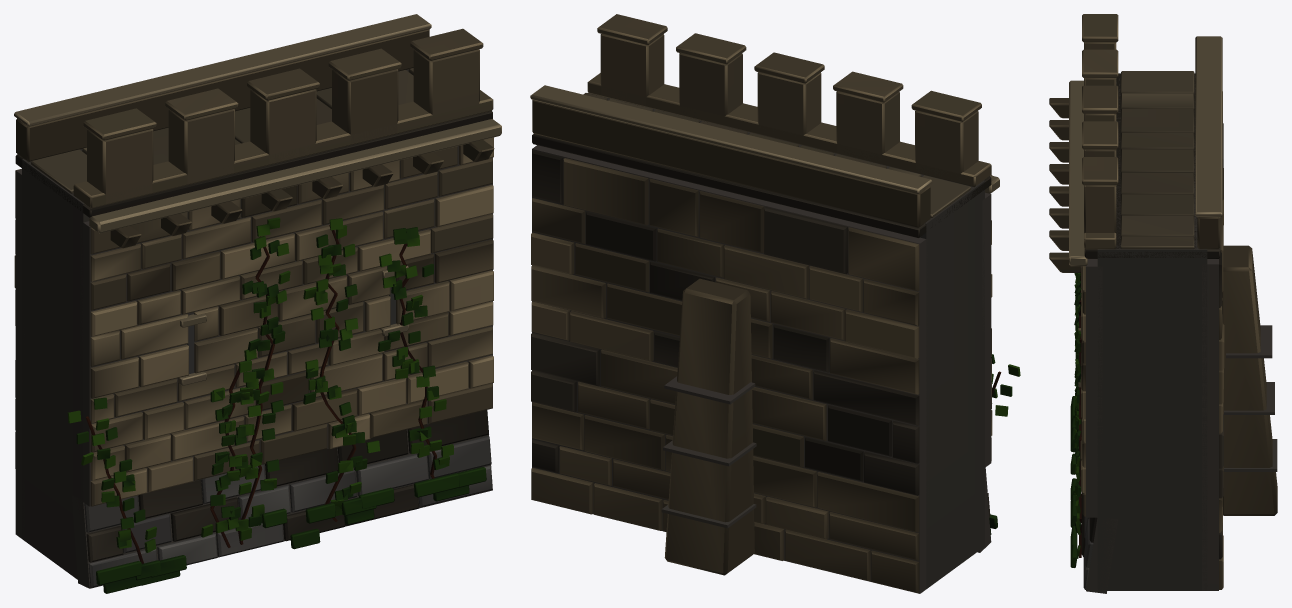
Rendered from Muralha4Hera.fbx.
3 views of the same model, side by side, from view 1: azimuth 30°, elevation 25°; view 2: azimuth 150°, elevation 25°; view 3: azimuth 270°, elevation 25° (orthographic). The views are drawn at different scales.
Visible parts, largest first — view 1: Muralha4Hera; view 2: Muralha4Hera; view 3: Muralha4Hera.
Part boxes in pixels (x1=…): Muralha4Hera: x1=14, y1=14, x2=501, y2=593; Muralha4Hera: x1=530, y1=14, x2=1020, y2=593; Muralha4Hera: x1=1049, y1=14, x2=1277, y2=593.
Bounding box in the file's own units: 8.51 × 8.63 × 4.37.
